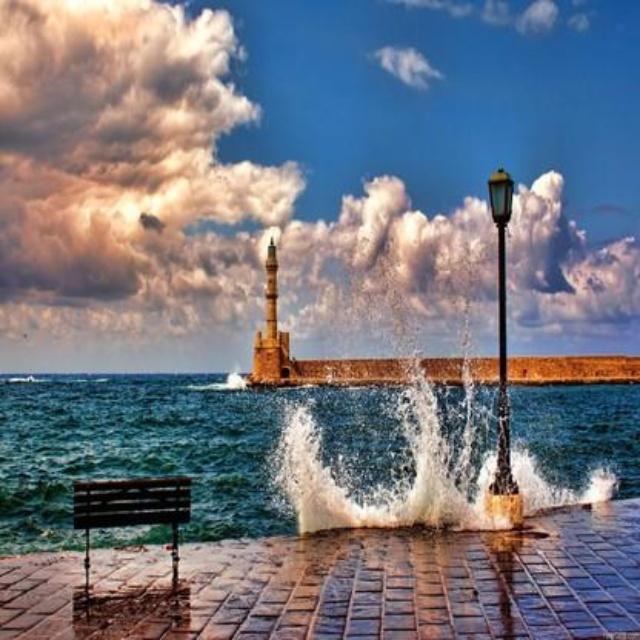obstacle: (54, 475, 217, 582)
